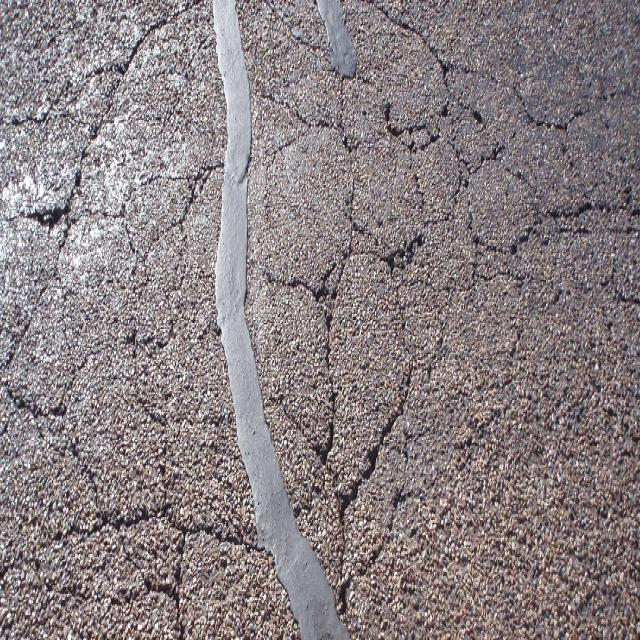Drain Hole: (288, 41, 553, 598)
